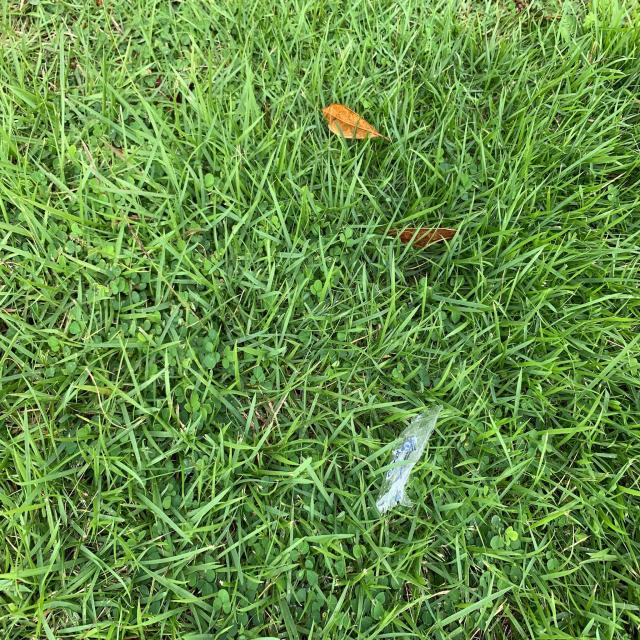litter: (372, 407, 446, 522)
